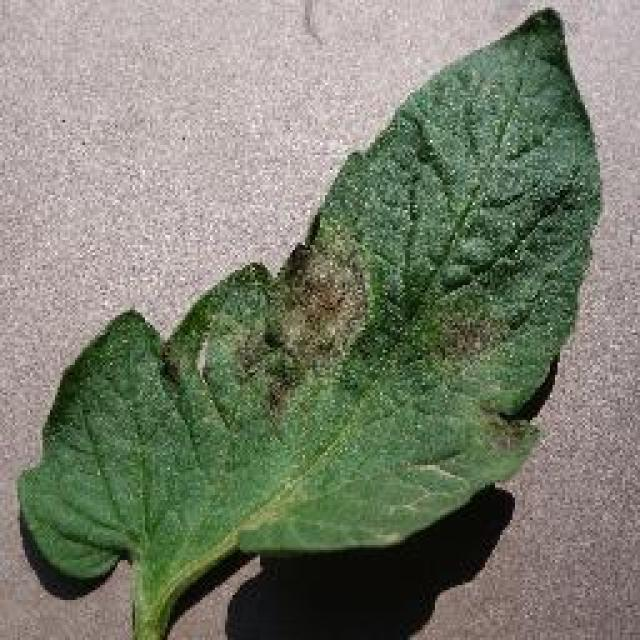Tomato___Late_blight: (18, 10, 602, 638)
